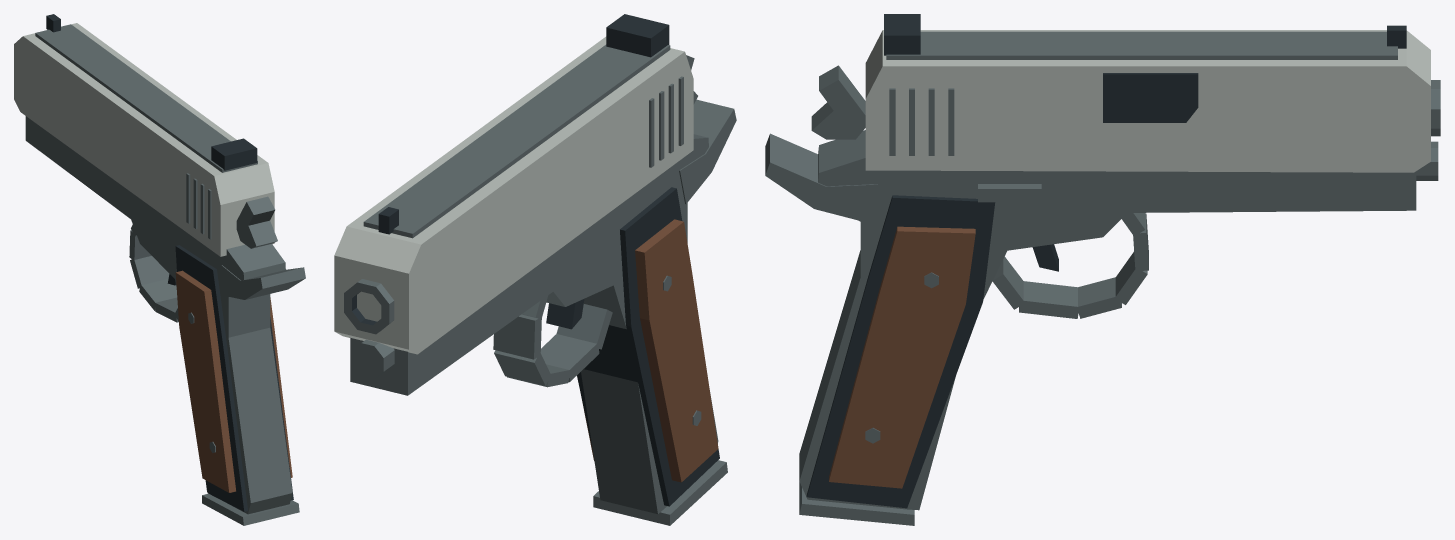
3 renders of one model, left to right at view 1: azimuth 30°, elevation 25°; view 2: azimuth 150°, elevation 25°; view 3: azimuth 270°, elevation 25°, orthographic. The views are drawn at different scales.
Parts seen in each view (by area): view 1: Classic_slide_1, Frame_0, Wood_grip_panel_8, Slide_top_2, Grip_frame_7, Beavertail_22, Hammer_23, Magazine_floor_31, Rear_sight_33, Trigger_guard_2_26, Trigger_guard_3_27, Wood_grip_panel_15 (+2 smaller); view 2: Classic_slide_1, Frame_0, Wood_grip_panel_8, Slide_top_2, Grip_frame_7, Beavertail_22, Rear_sight_33, Magazine_floor_31, Trigger_guard_1_25, Trigger_guard_4_28, Muzzle_3, Trigger_guard_5_29 (+4 smaller); view 3: Classic_slide_1, Frame_0, Wood_grip_panel_15, Slide_top_2, Grip_frame_7, Ejection_port_32, Beavertail_22, Hammer_23, Magazine_floor_31, Trigger_guard_4_28, Rear_sight_33, Trigger_guard_3_27 (+3 smaller).
Boxes of the visible parts, bbox=[...] form: Classic_slide_1: bbox=[14, 23, 274, 256]; Frame_0: bbox=[25, 116, 292, 514]; Wood_grip_panel_8: bbox=[175, 270, 235, 492]; Slide_top_2: bbox=[35, 24, 257, 172]; Grip_frame_7: bbox=[175, 245, 293, 511]; Beavertail_22: bbox=[221, 265, 305, 299]; Hammer_23: bbox=[236, 196, 277, 248]; Magazine_floor_31: bbox=[202, 493, 299, 525]; Rear_sight_33: bbox=[211, 138, 257, 170]; Trigger_guard_2_26: bbox=[130, 256, 169, 288]; Trigger_guard_3_27: bbox=[139, 278, 177, 310]; Wood_grip_panel_15: bbox=[270, 297, 292, 477]; Classic_slide_1: bbox=[334, 36, 693, 354]; Frame_0: bbox=[350, 134, 718, 513]; Wood_grip_panel_8: bbox=[635, 219, 718, 482]; Slide_top_2: bbox=[363, 44, 670, 238]; Grip_frame_7: bbox=[577, 187, 719, 506]; Beavertail_22: bbox=[679, 99, 736, 203]; Rear_sight_33: bbox=[606, 14, 669, 57]; Magazine_floor_31: bbox=[593, 460, 727, 525]; Trigger_guard_1_25: bbox=[493, 314, 541, 359]; Trigger_guard_4_28: bbox=[540, 334, 599, 382]; Muzzle_3: bbox=[344, 279, 394, 334]; Trigger_guard_5_29: bbox=[556, 304, 612, 349]; Classic_slide_1: bbox=[865, 30, 1430, 172]; Frame_0: bbox=[799, 130, 1416, 510]; Wood_grip_panel_15: bbox=[829, 226, 975, 488]; Slide_top_2: bbox=[886, 31, 1397, 59]; Grip_frame_7: bbox=[806, 195, 995, 508]; Ejection_port_32: bbox=[1103, 73, 1198, 122]; Beavertail_22: bbox=[765, 133, 877, 222]; Hammer_23: bbox=[811, 65, 865, 139]; Magazine_floor_31: bbox=[799, 481, 914, 525]; Trigger_guard_4_28: bbox=[1019, 281, 1078, 318]; Rear_sight_33: bbox=[884, 14, 920, 55]; Trigger_guard_3_27: bbox=[1076, 277, 1121, 318].
Size of the model in its own units: 0.0435 by 0.2175 by 0.276.
